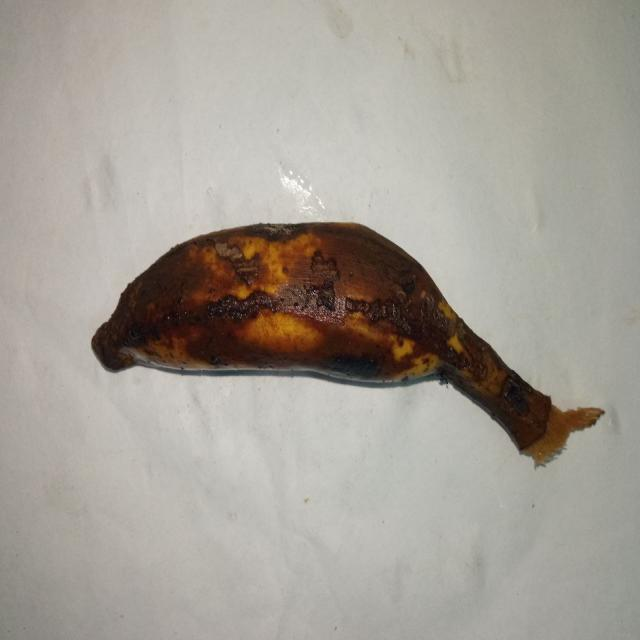rotten_banana: (93, 222, 556, 456)
